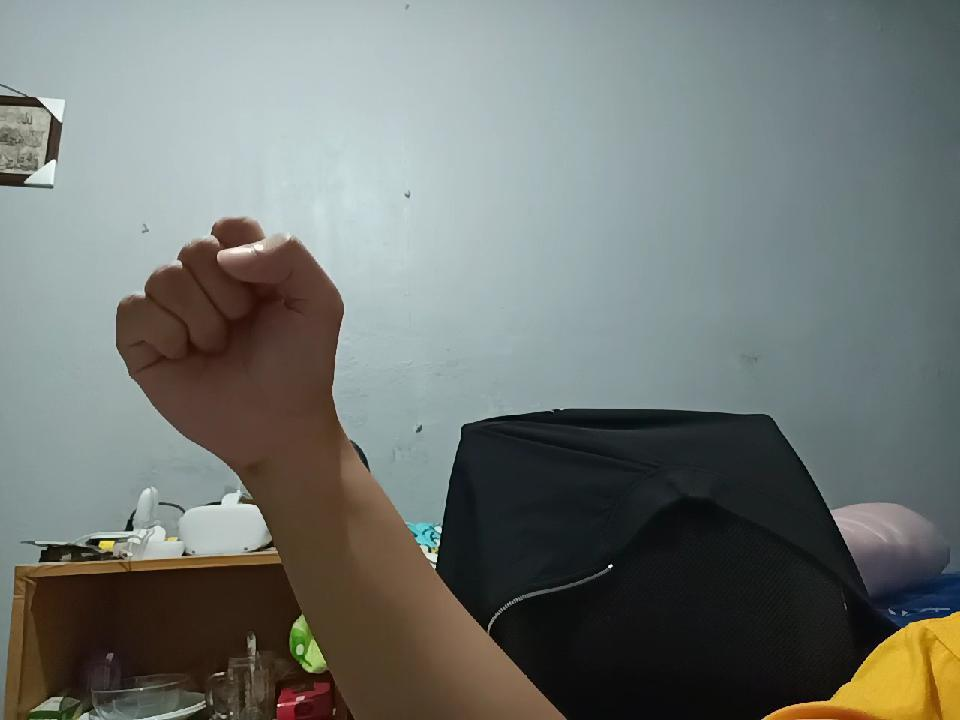rock: (112, 242, 350, 486)
